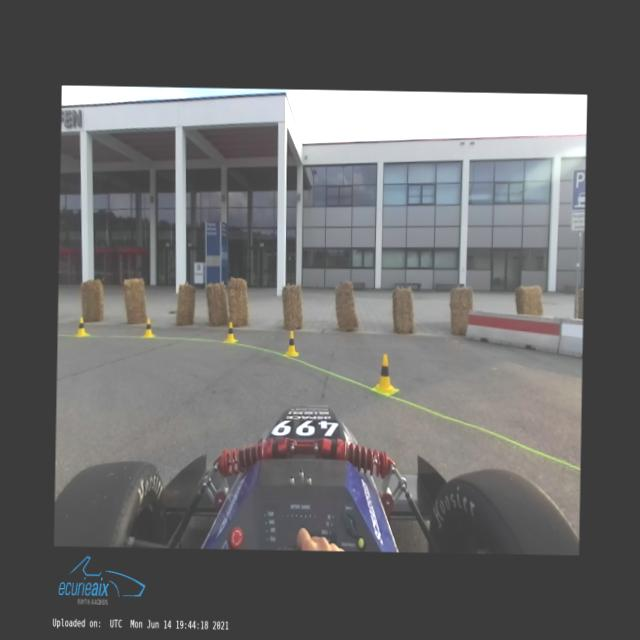yellow_cone: (374, 353, 395, 392), (285, 330, 298, 356), (226, 322, 236, 342), (76, 317, 86, 336), (144, 318, 154, 337)
